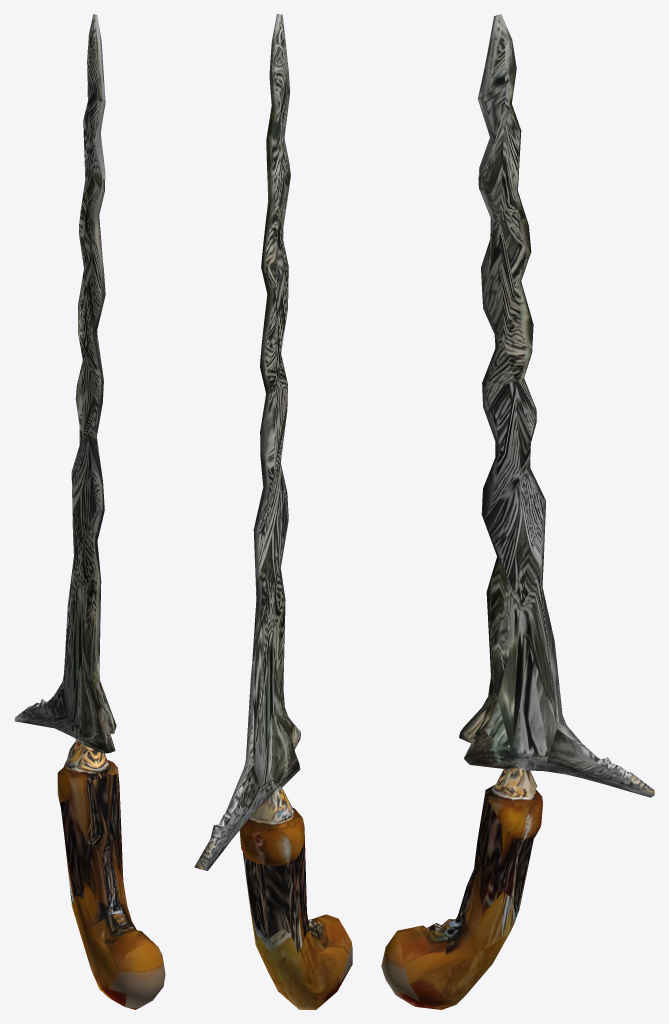
Rendered from krissssss.fbx.
The picture shows the model from 3 angles, left to right: view 1: azimuth 30°, elevation 25°; view 2: azimuth 150°, elevation 25°; view 3: azimuth 270°, elevation 25°; orthographic projection. The views are drawn at different scales.
Parts seen in each view (by area): view 1: meshes[0]; view 2: meshes[0]; view 3: meshes[0].
Part boxes in pixels (x1=…): meshes[0]: x1=14, y1=14, x2=165, y2=1009; meshes[0]: x1=194, y1=14, x2=352, y2=1009; meshes[0]: x1=381, y1=14, x2=654, y2=1009.
Size of the model in its own units: 3.36 by 56.83 by 14.17.
1 material, 1 textured.
